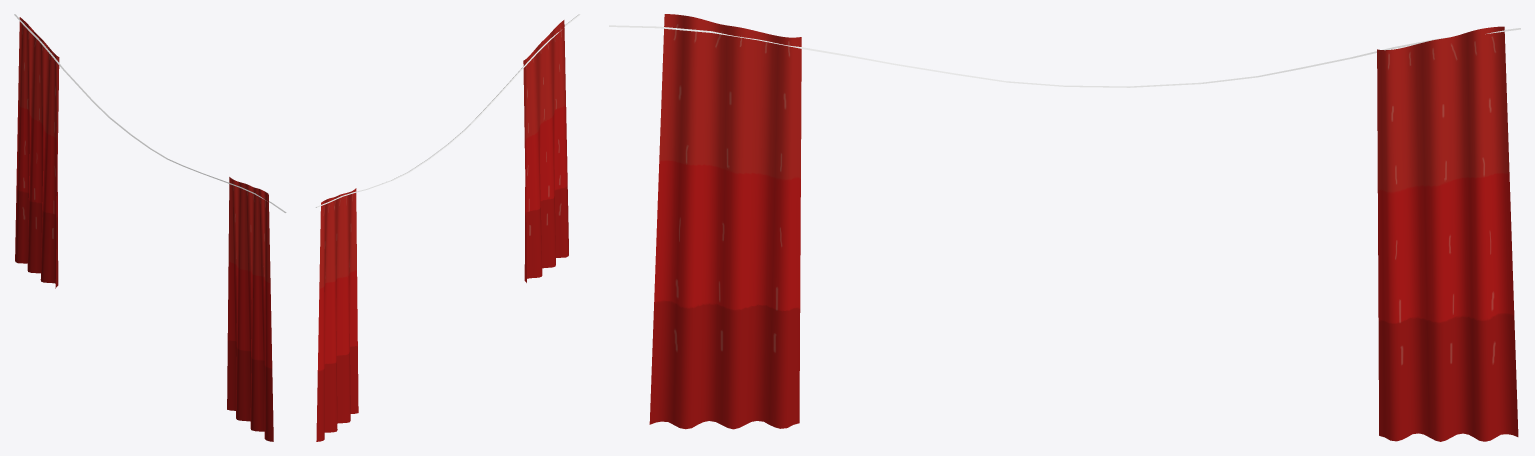
Rendered from courtains.fbx.
3 views of the same model, side by side, from view 1: azimuth 30°, elevation 25°; view 2: azimuth 150°, elevation 25°; view 3: azimuth 270°, elevation 25° (orthographic). The views are drawn at different scales.
Visible parts, largest first — view 1: Cortain1, Cortain2, thread; view 2: Cortain1, Cortain2, thread; view 3: Cortain1, Cortain2, thread.
Part boxes in pixels (<box>): Cortain1: <box>227,177,273,441</box>; Cortain2: <box>15,17,59,288</box>; thread: <box>14,14,286,212</box>; Cortain1: <box>523,20,568,282</box>; Cortain2: <box>316,188,358,441</box>; thread: <box>316,14,580,207</box>; Cortain1: <box>649,14,801,429</box>; Cortain2: <box>1377,26,1518,441</box>; thread: <box>609,25,1520,87</box>.
Bounding box in the file's own units: 34.09 × 682 × 1337.
